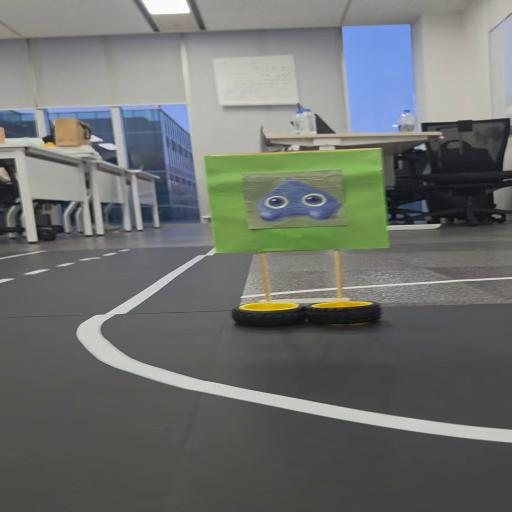Sign_B: (199, 147, 405, 329)
